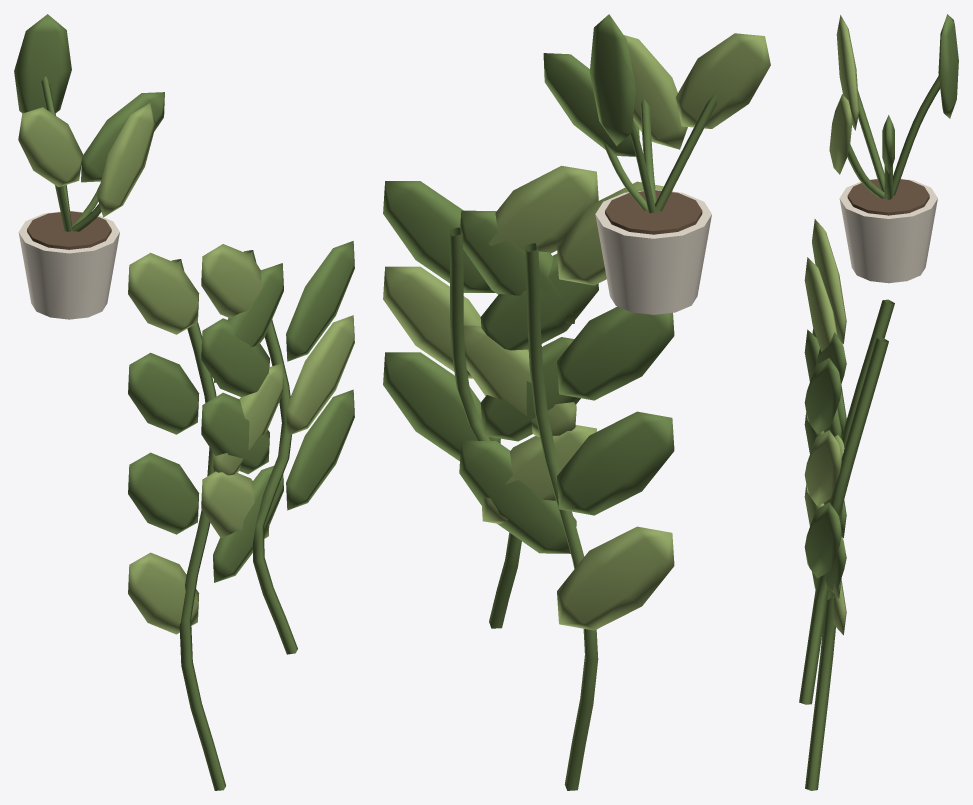
File: bathroom_ref_trailing_plant.glb
3 views of the same model, side by side, from view 1: azimuth 30°, elevation 25°; view 2: azimuth 150°, elevation 25°; view 3: azimuth 270°, elevation 25° (orthographic). The views are drawn at different scales.
Bounding box in the file's own units: 0.6351 × 1.35 × 0.269.
